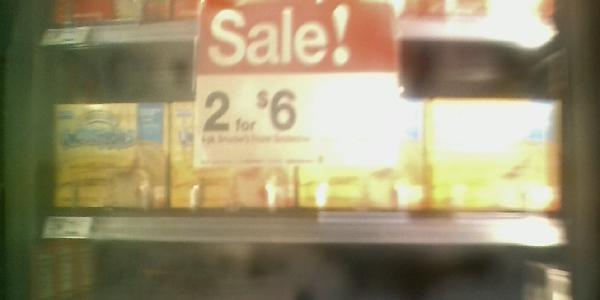icecream: (294, 95, 426, 219), (427, 95, 565, 212), (167, 99, 297, 216), (46, 99, 168, 214)
